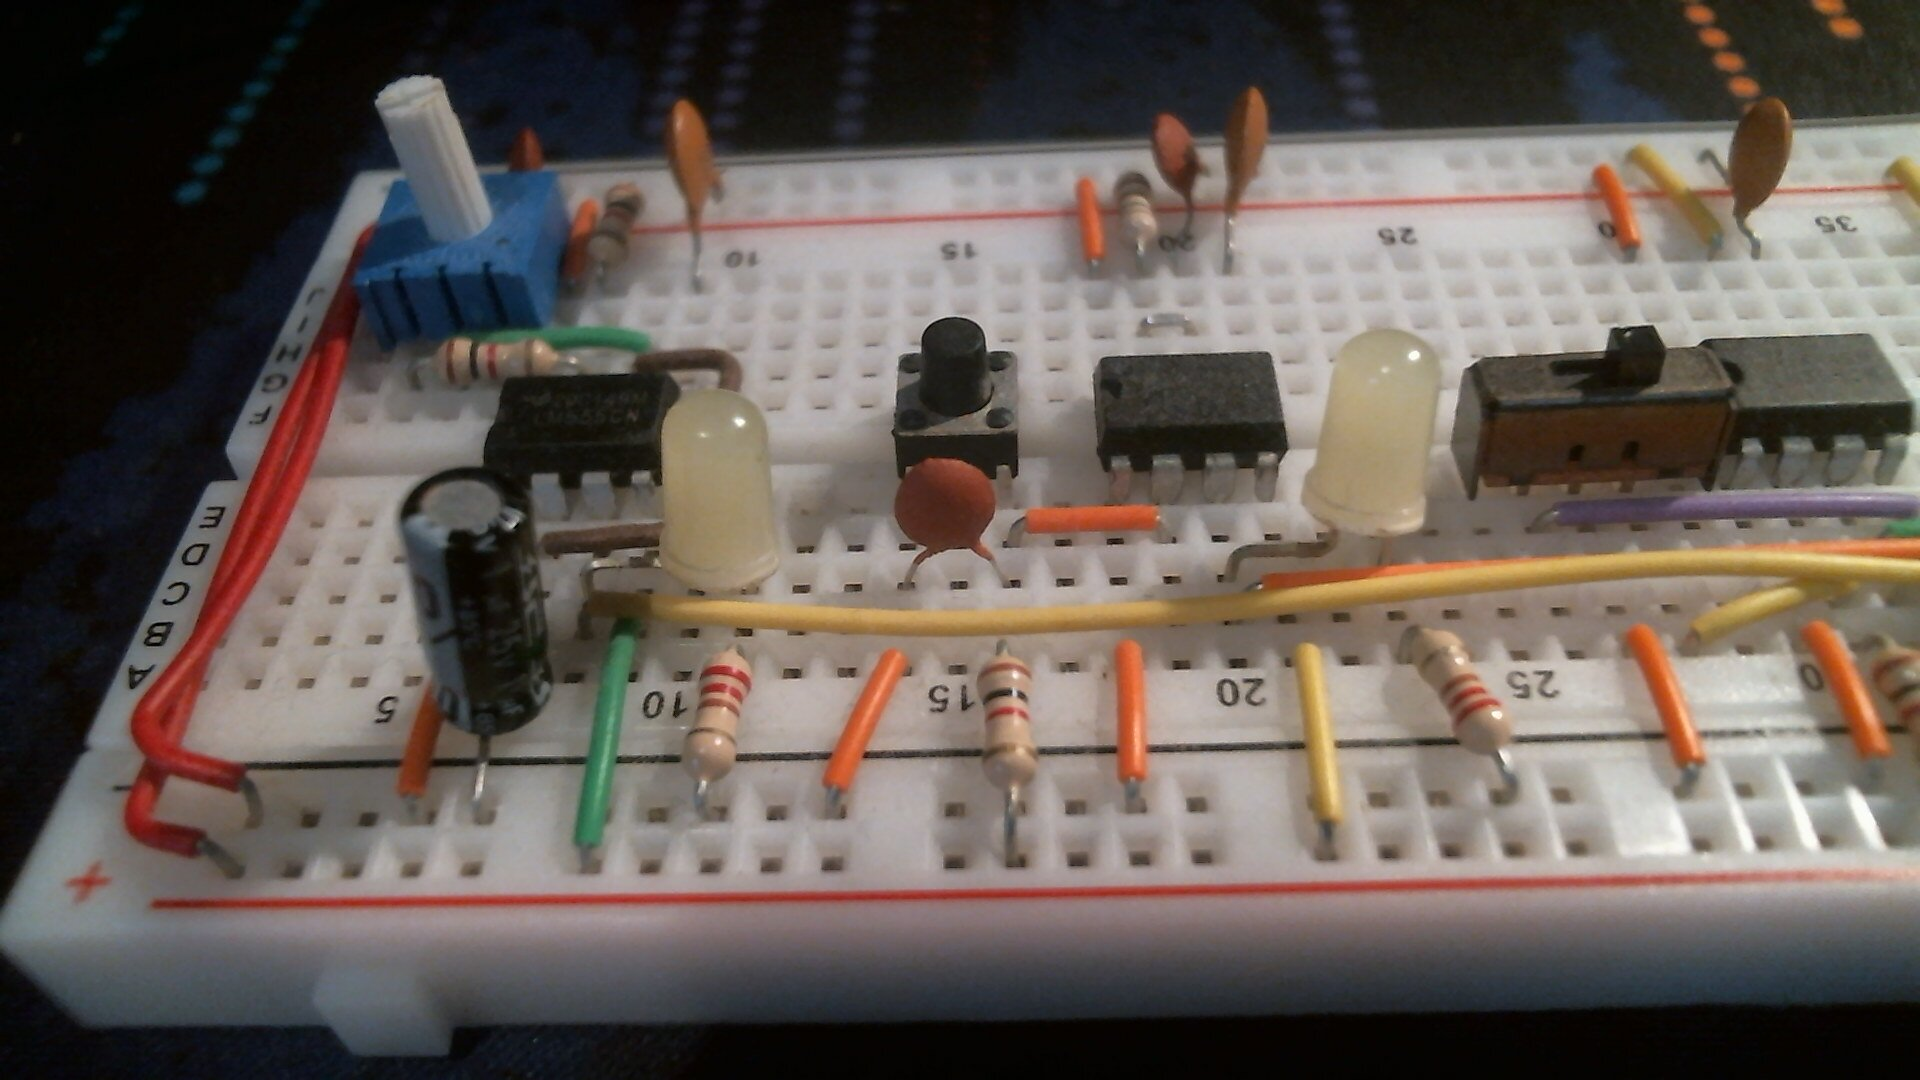IC: (1702, 332, 1917, 484), (1089, 348, 1292, 498)
LED: (1299, 323, 1445, 541), (653, 388, 785, 593)
ceramic_capacitor: (891, 455, 1000, 562), (1720, 94, 1796, 223), (659, 96, 731, 233), (1220, 80, 1274, 219), (1147, 108, 1215, 210)
electrolytic_capacitor: (396, 465, 556, 742)
resistor: (1403, 620, 1516, 761), (975, 645, 1048, 810), (678, 645, 757, 789), (431, 335, 564, 378), (585, 179, 645, 276), (1112, 170, 1163, 265)
